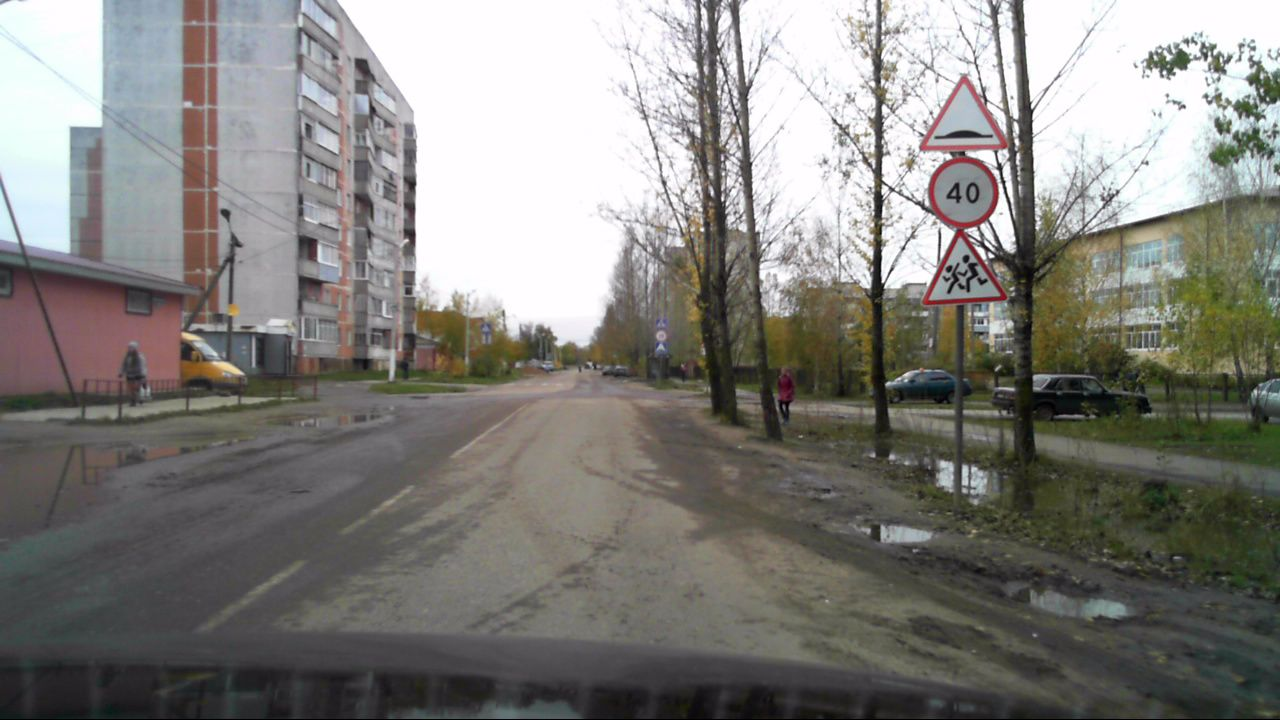speed_warning_40: (926, 157, 997, 230)
